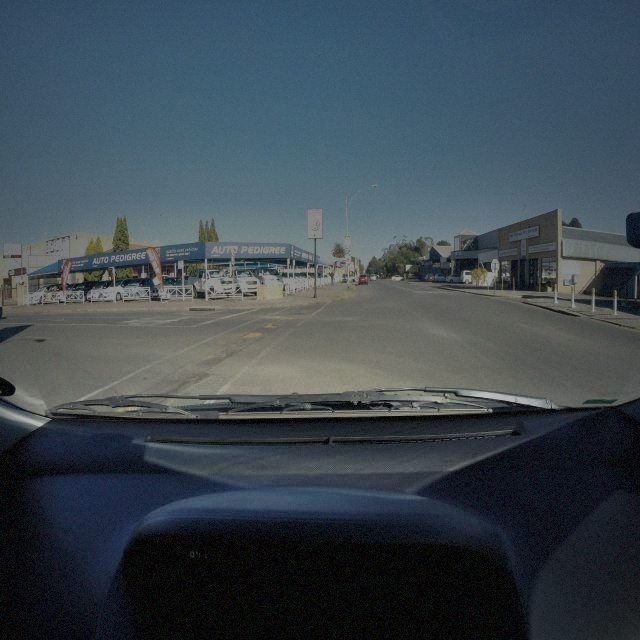pothole: (243, 328, 262, 342), (265, 320, 276, 330)
